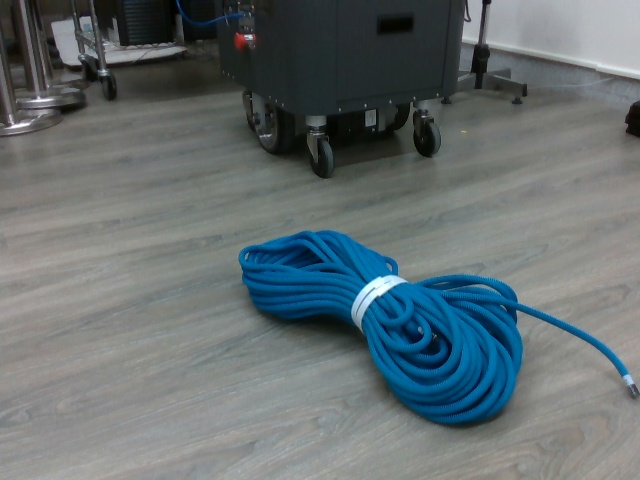rope: (230, 220, 527, 428)
